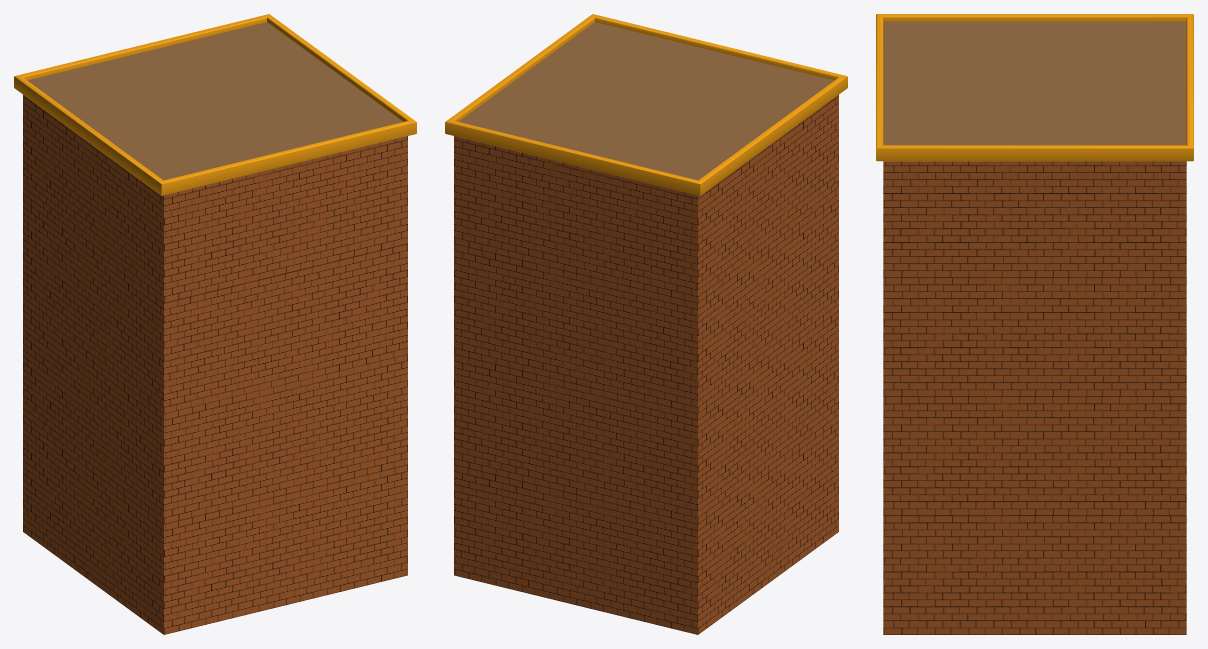
Rendered from SM_Building.fbx.
The picture shows the model from 3 angles, left to right: view 1: azimuth 30°, elevation 25°; view 2: azimuth 150°, elevation 25°; view 3: azimuth 270°, elevation 25°; orthographic projection. The views are drawn at different scales.
Visible parts, largest first — view 1: SM_Building; view 2: SM_Building; view 3: SM_Building.
Boxes of the visible parts, left/top/right/bottom form: SM_Building: left=14, top=14, right=416, bottom=634; SM_Building: left=445, top=14, right=847, bottom=634; SM_Building: left=876, top=14, right=1193, bottom=634.
Size of the model in its own units: 32.64 by 55.57 by 32.64.
Materials: 1 (1 with a texture image).
